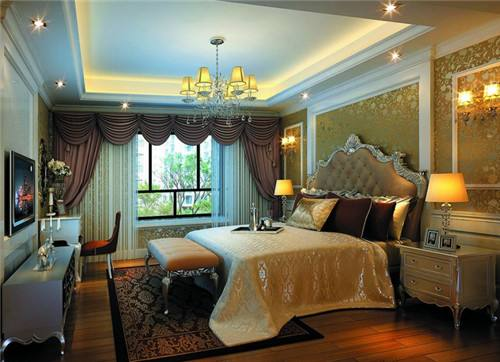床: (143, 222, 405, 336)
枕头: (289, 190, 412, 238)
灯: (177, 37, 262, 104), (428, 171, 472, 246), (456, 86, 499, 124), (274, 178, 298, 220), (278, 135, 300, 156), (379, 1, 403, 20), (30, 17, 48, 32), (387, 51, 406, 64), (120, 102, 133, 113), (52, 80, 66, 90), (301, 92, 313, 103)
